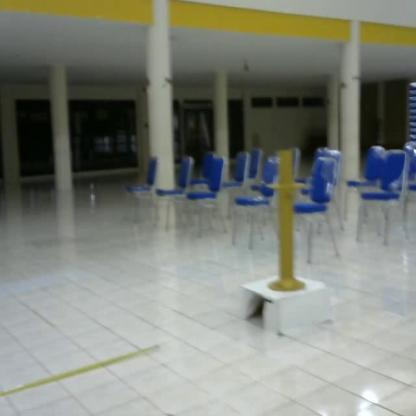pole: (263, 150, 314, 299)
